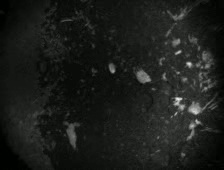corn: (107, 61, 117, 76)
